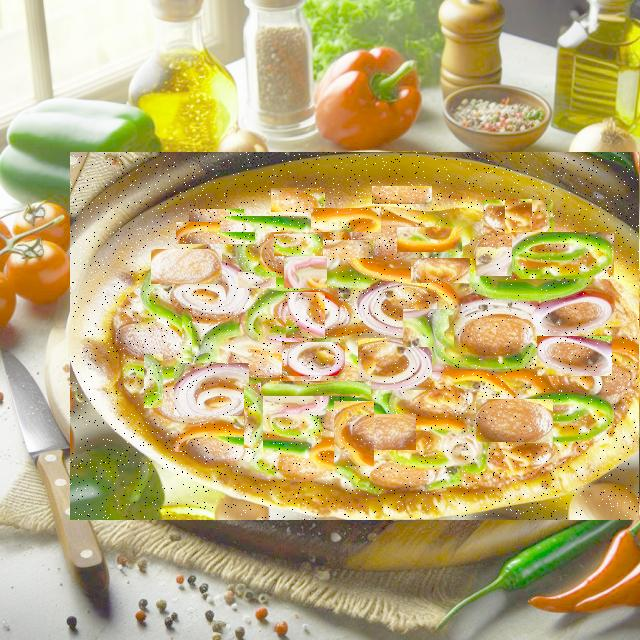Green Pepper: (512, 232, 614, 279), (325, 242, 398, 278), (199, 284, 235, 346), (403, 309, 454, 347), (248, 330, 282, 380), (261, 381, 371, 396), (220, 216, 311, 232), (356, 262, 385, 312), (244, 383, 263, 448), (274, 234, 323, 256), (144, 354, 163, 408), (131, 300, 190, 312), (134, 292, 186, 304), (183, 308, 192, 358)
Onions: (174, 363, 249, 416), (358, 338, 432, 391), (537, 336, 612, 376), (282, 342, 345, 376), (286, 292, 325, 338), (284, 256, 327, 288), (394, 279, 442, 304), (476, 248, 515, 278), (448, 209, 480, 238), (238, 272, 276, 288)
Pepperoni: (476, 399, 553, 442), (118, 311, 184, 349), (151, 249, 222, 284), (483, 200, 553, 235), (465, 319, 536, 352), (361, 414, 416, 450), (562, 283, 632, 308), (411, 258, 470, 283), (271, 188, 325, 212), (189, 209, 244, 231), (325, 280, 376, 302), (372, 186, 432, 204), (321, 240, 373, 258), (326, 242, 371, 258)
Pizza: (71, 152, 640, 520)
Red Pepper: (549, 287, 640, 331), (372, 354, 455, 402), (334, 401, 374, 466), (442, 278, 544, 302), (176, 222, 255, 244), (397, 228, 462, 254), (311, 208, 381, 232), (506, 199, 534, 233)
